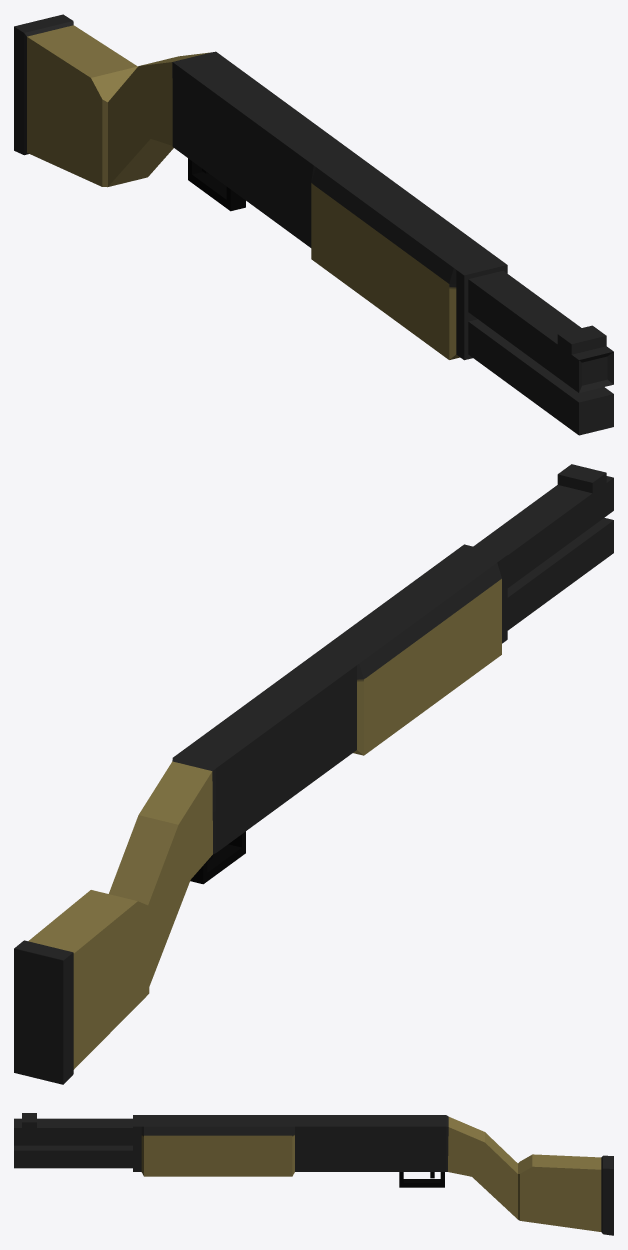
File: shotgun.fbx
3 renders of one model, top to bottom at view 1: azimuth 30°, elevation 25°; view 2: azimuth 150°, elevation 25°; view 3: azimuth 270°, elevation 25°, orthographic. The views are drawn at different scales.
Visible parts, largest first — view 1: shot_gun; view 2: shot_gun; view 3: shot_gun.
Part boxes in pixels (x1,y1,x2,y2): shot_gun: [14, 14, 613, 435]; shot_gun: [14, 464, 613, 1084]; shot_gun: [14, 1113, 613, 1235].
Size of the model in its own units: 0.0603 by 0.2268 by 1.11.
